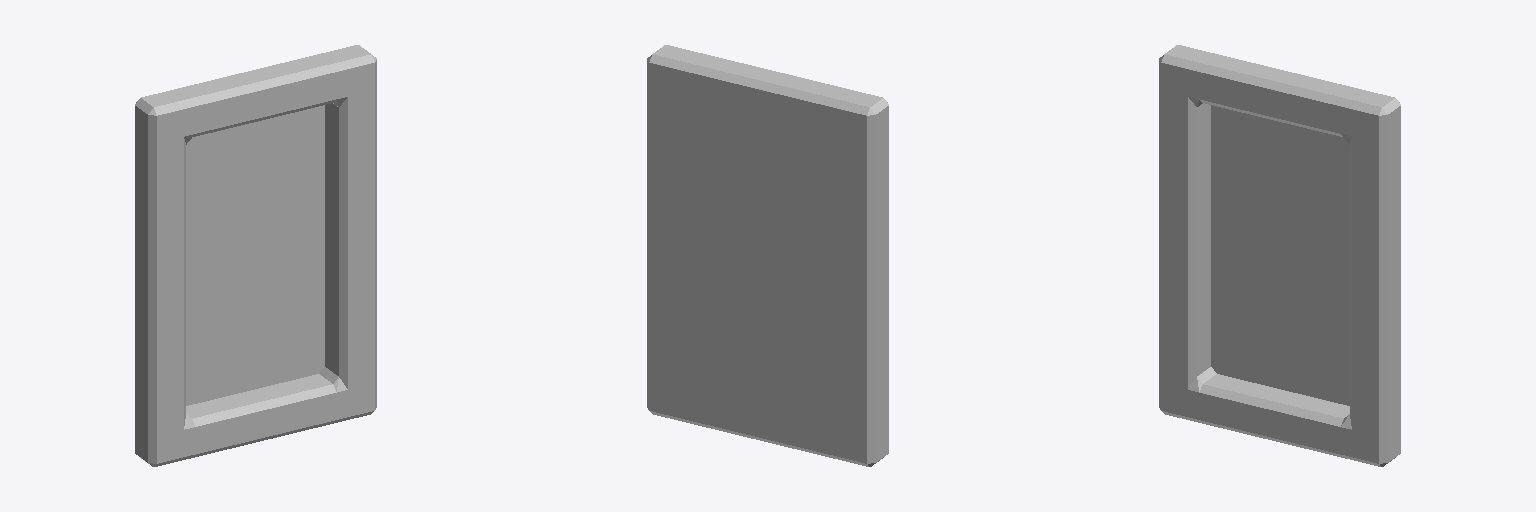
Rendered from Card.obj.
3 renders of one model, left to right at view 1: azimuth 30°, elevation 25°; view 2: azimuth 150°, elevation 25°; view 3: azimuth 330°, elevation 25°, orthographic.
Visible parts, largest first — view 1: Cube; view 2: Cube; view 3: Cube.
Boxes of the visible parts, x1=… form: Cube: x1=135, y1=45, x2=376, y2=466; Cube: x1=647, y1=45, x2=888, y2=466; Cube: x1=1159, y1=45, x2=1400, y2=466.
Size of the model in its own units: 2 by 3 by 0.3007.